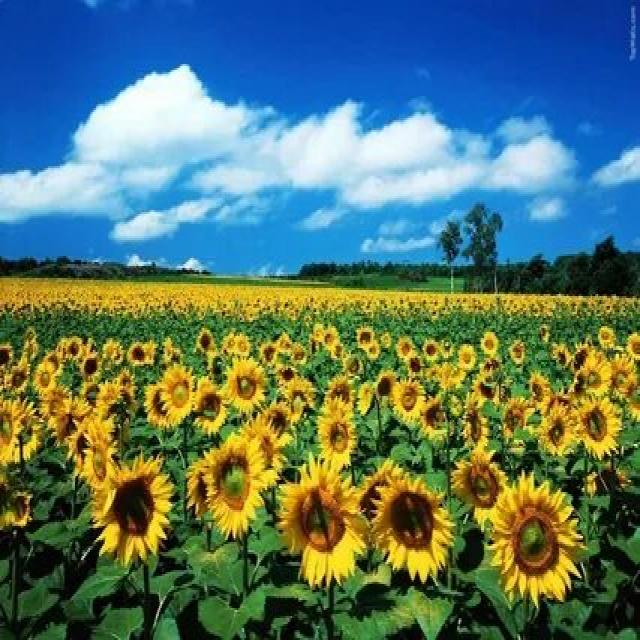sunflower: (274, 454, 367, 604), (490, 470, 585, 602), (364, 466, 457, 580), (82, 458, 180, 564), (195, 430, 273, 532), (573, 390, 622, 464), (317, 406, 359, 474), (222, 358, 270, 412), (154, 358, 195, 420), (386, 376, 428, 432), (31, 358, 57, 400), (480, 324, 499, 358), (230, 330, 250, 358), (595, 324, 613, 350)
